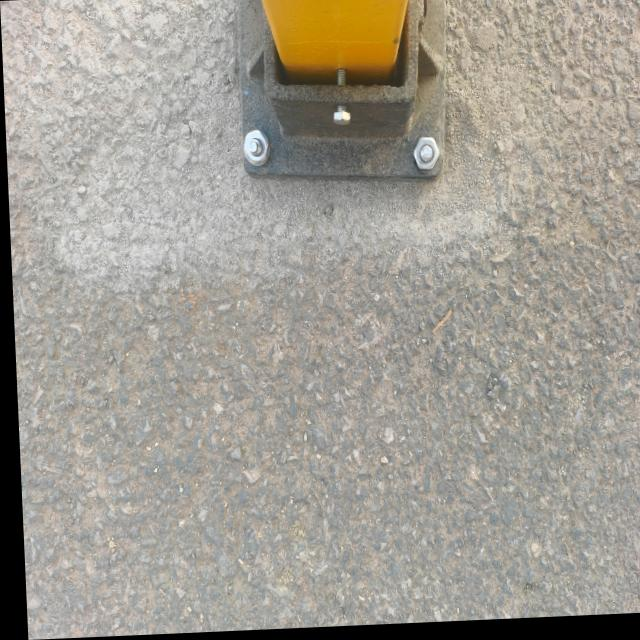Loose bolt: (330, 101, 354, 132)
Regular bolt: (411, 140, 440, 175), (242, 132, 270, 168), (332, 114, 351, 129)
